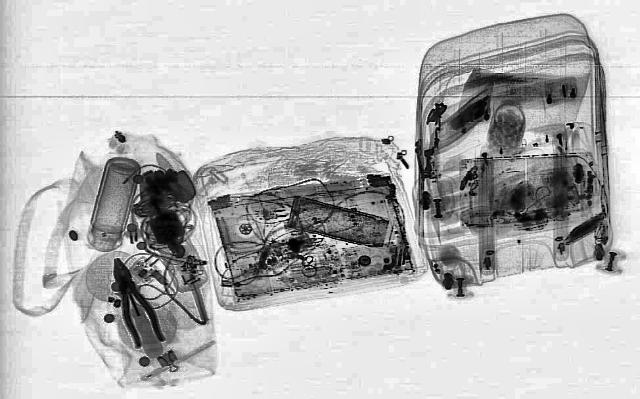Pliers: (99, 257, 168, 347)
